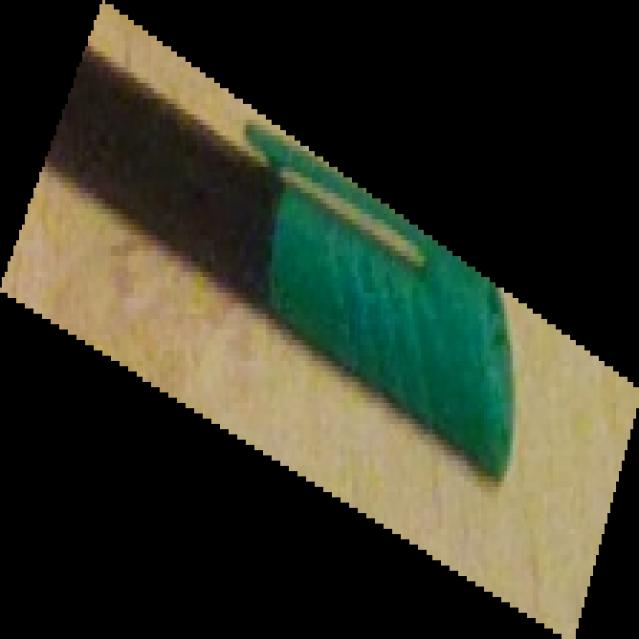green: (0, 1, 639, 639)
